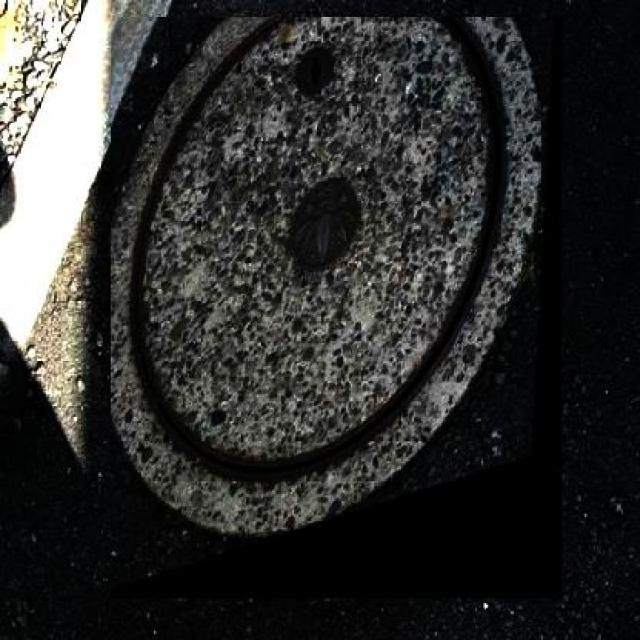Manhole: (110, 18, 561, 600)
